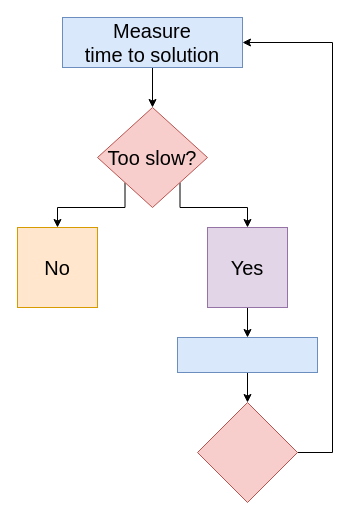
The diagram is 358 pixels wide and 520 high, and some of its shapes have lost their labels. Each missing label, with the box of its shape:
Optimise: (196, 402, 298, 502)
Profile/model: (176, 336, 318, 372)
